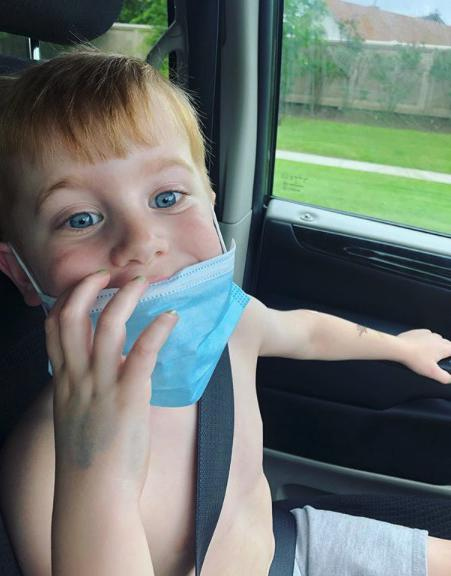mask_weared_incorrect: (33, 159, 218, 360)
